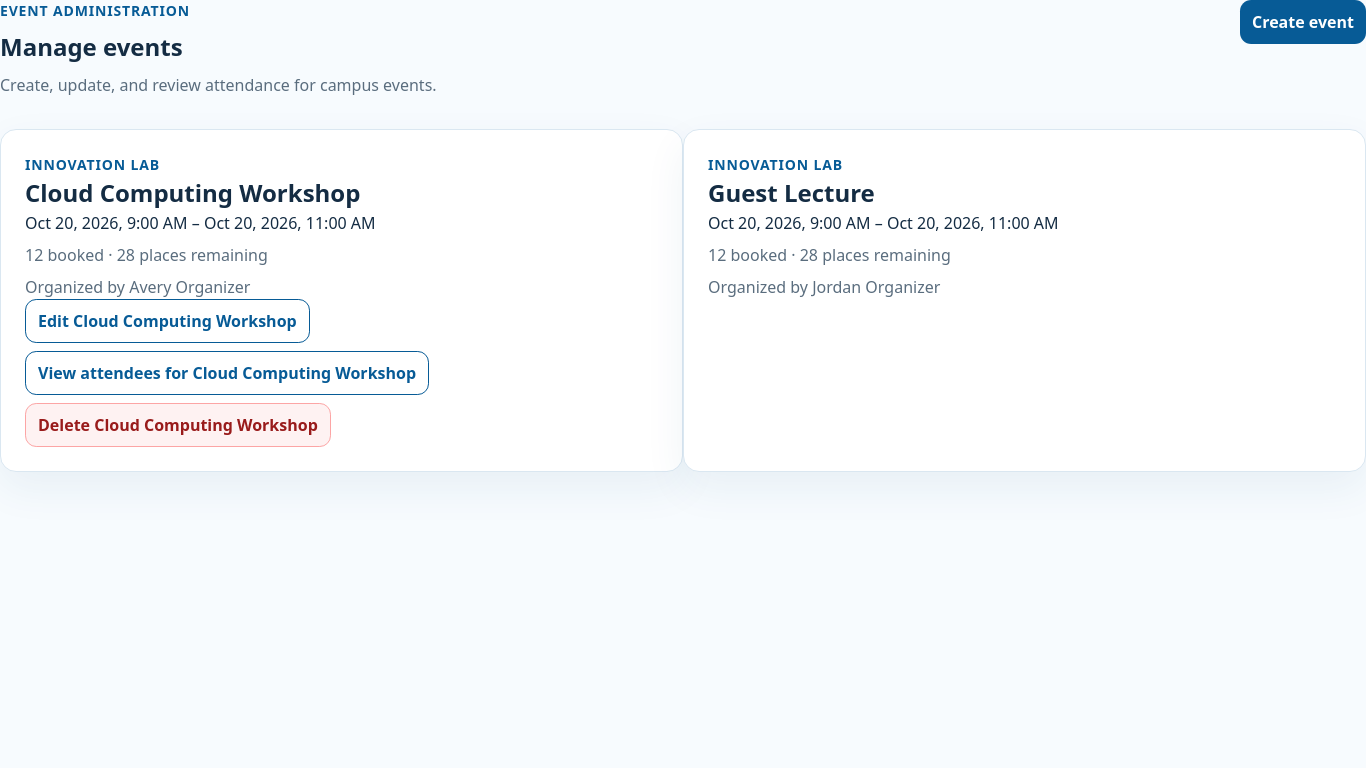
Test: ManageEventsPage › loads attendees only after the attendee dialog opens and shows their details
Expected: the heading "Cloud Computing Workshop" is shown, [25, 176, 360, 209]
What coordinates should you click on to do the following:
click the button "View attendees for Cloud Computing Workshop"
I would click on:
 (227, 373)
Its box is [25, 351, 429, 395].
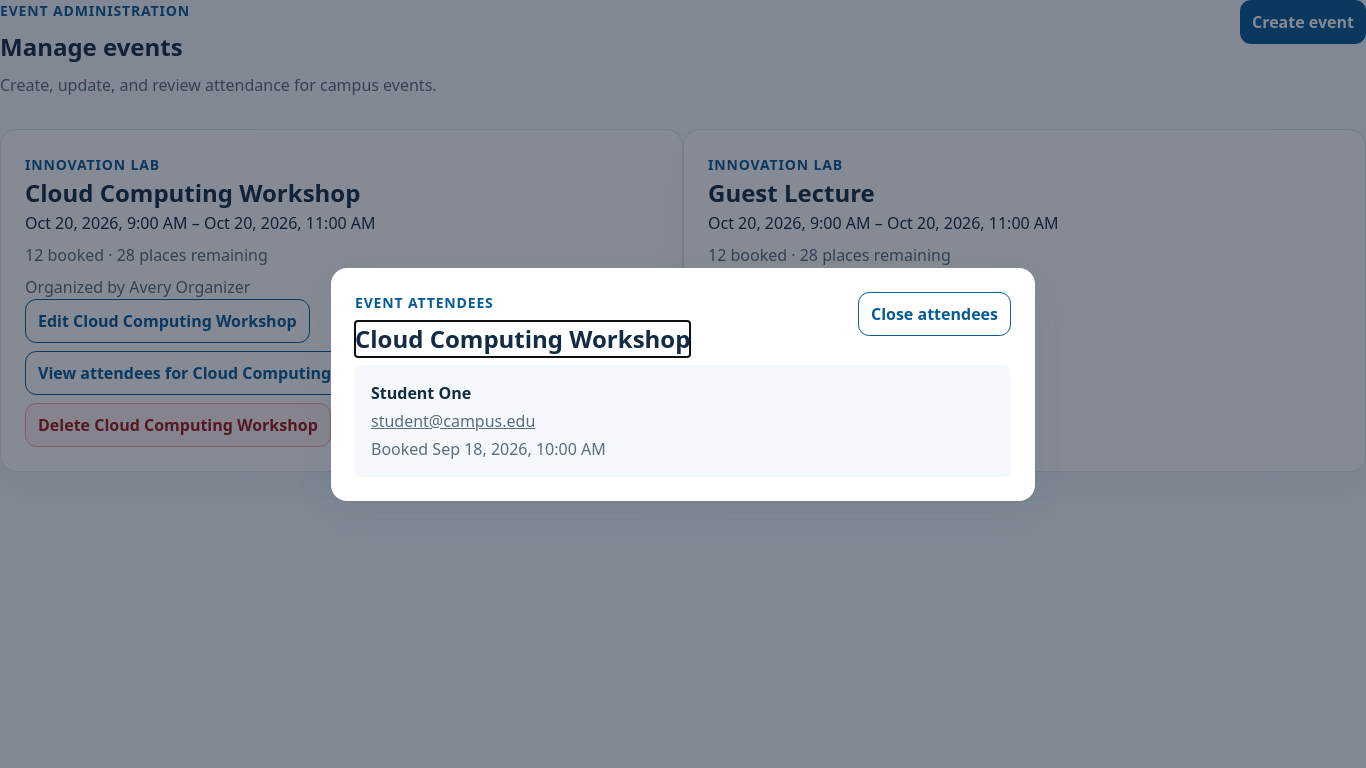
Expected: the link "student@campus.edu" is shown, [371, 410, 535, 432]
Expected: the text "Student One" is shown, [371, 382, 471, 404]
Expected: the text "Booked Sep 18, 2026, 10:00 AM" is shown, [371, 438, 606, 460]
